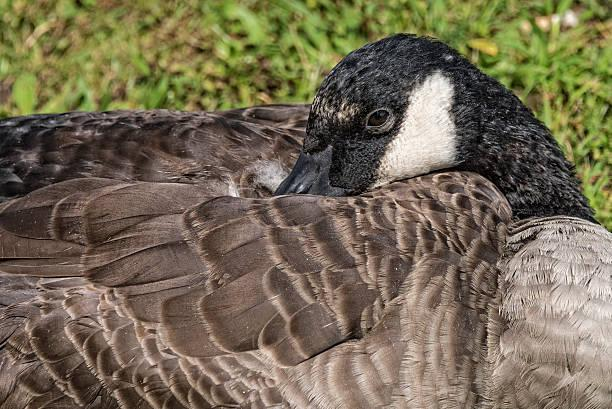Canadian-Goose: (1, 32, 611, 409)
